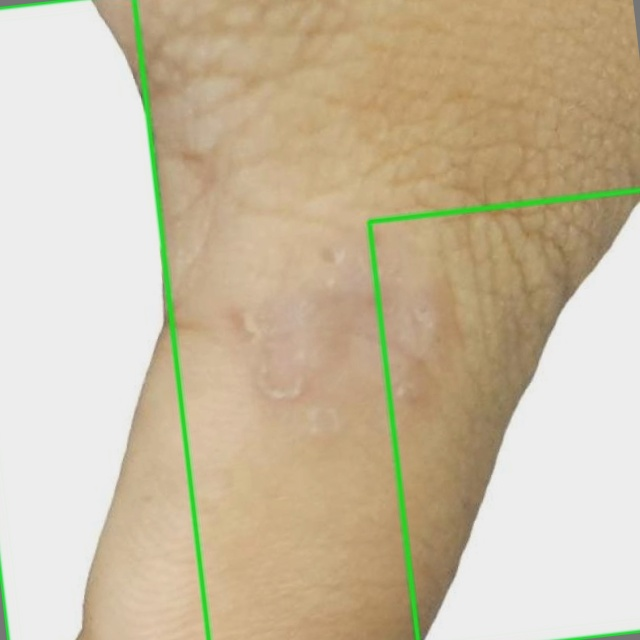Scabies: (0, 0, 208, 639), (369, 190, 639, 639)
